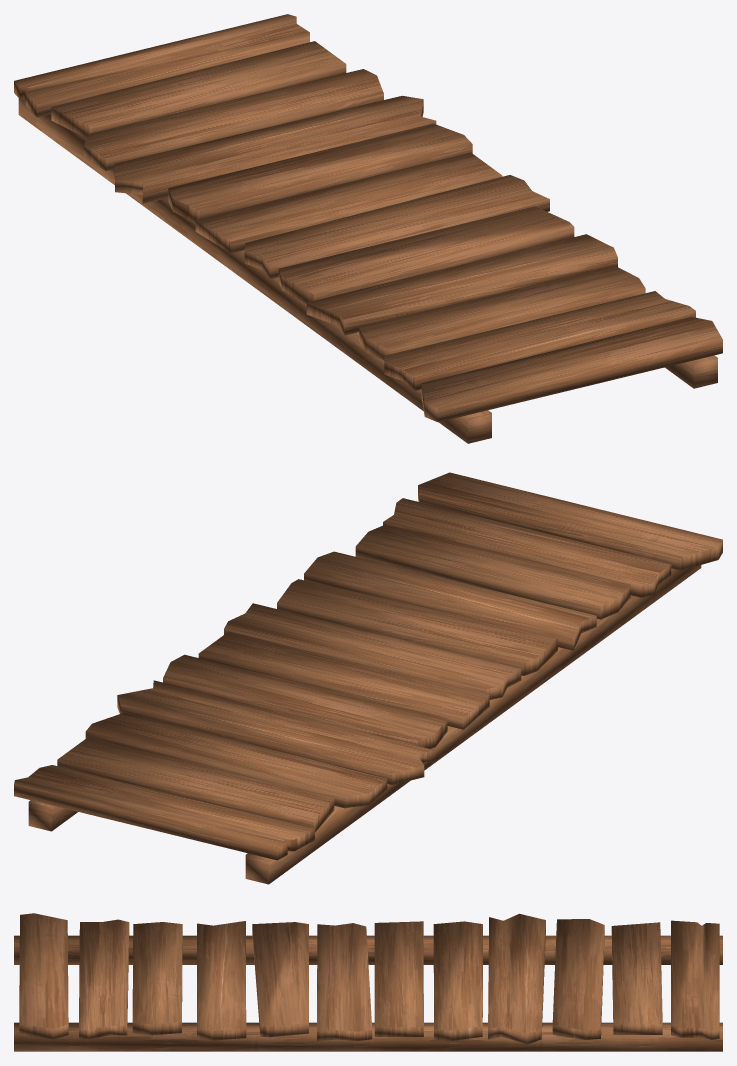
File: Bridge Wooden_1.fbx
3 views of the same model, one above another, from view 1: azimuth 30°, elevation 25°; view 2: azimuth 150°, elevation 25°; view 3: azimuth 270°, elevation 25° (orthographic). The views are drawn at different scales.
Parts seen in each view (by area): view 1: Bridge Wooden_1; view 2: Bridge Wooden_1; view 3: Bridge Wooden_1.
Boxes of the visible parts, x1,y1,x2,y2 form: Bridge Wooden_1: (14, 14, 722, 443); Bridge Wooden_1: (14, 472, 722, 884); Bridge Wooden_1: (14, 913, 722, 1051).
Size of the model in its own units: 3.29 by 0.3879 by 8.15.
